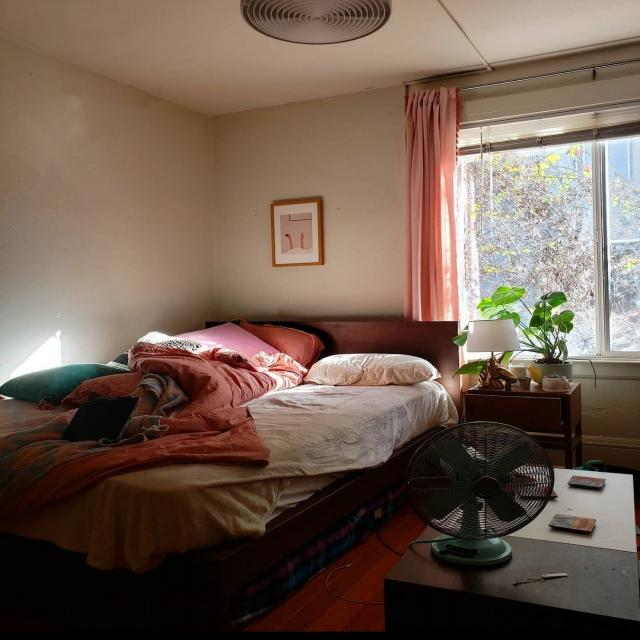bed: (0, 301, 452, 591)
